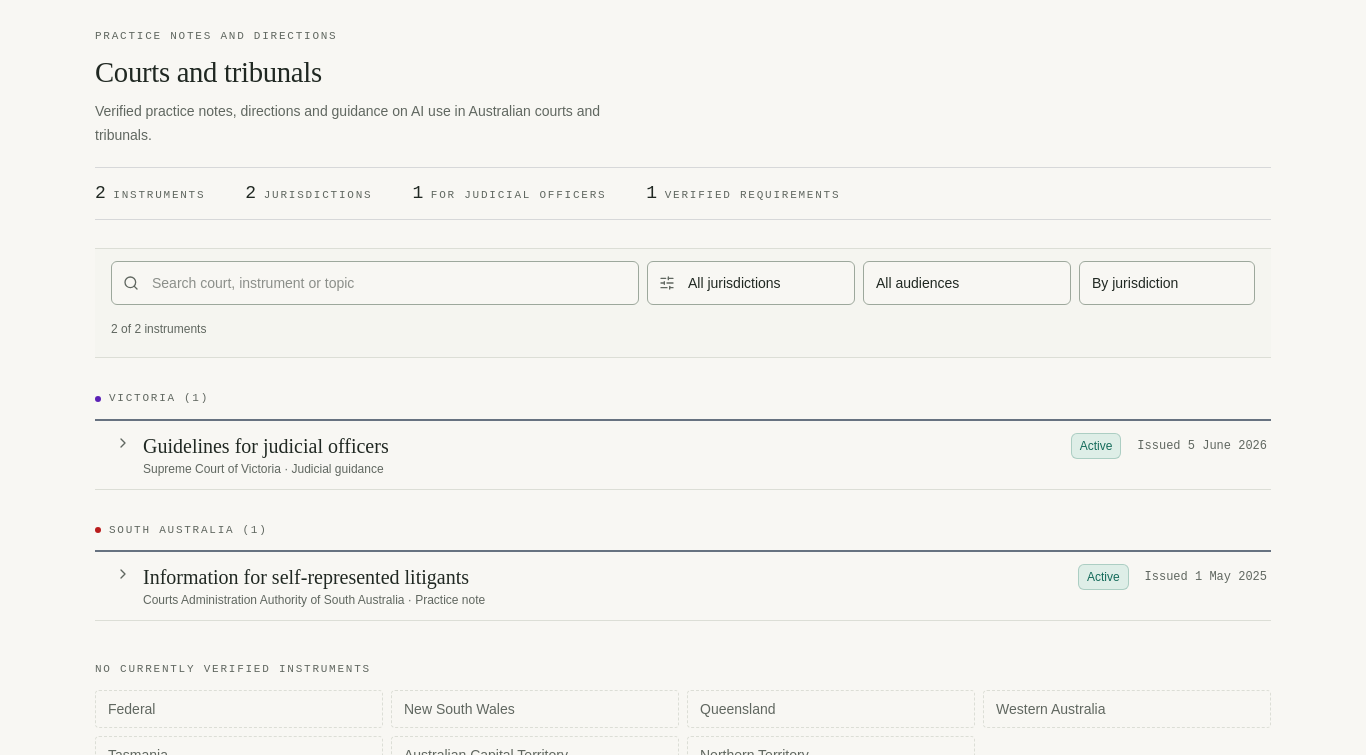
Test case: CourtsBrowser › includes mixed practitioner audiences from public requirements, not non-lawyers
Select "Legal professionals" in the 2nd dropdown named "Filter by audience" at (967, 283), box x1=863 y1=261 x2=1071 y2=305
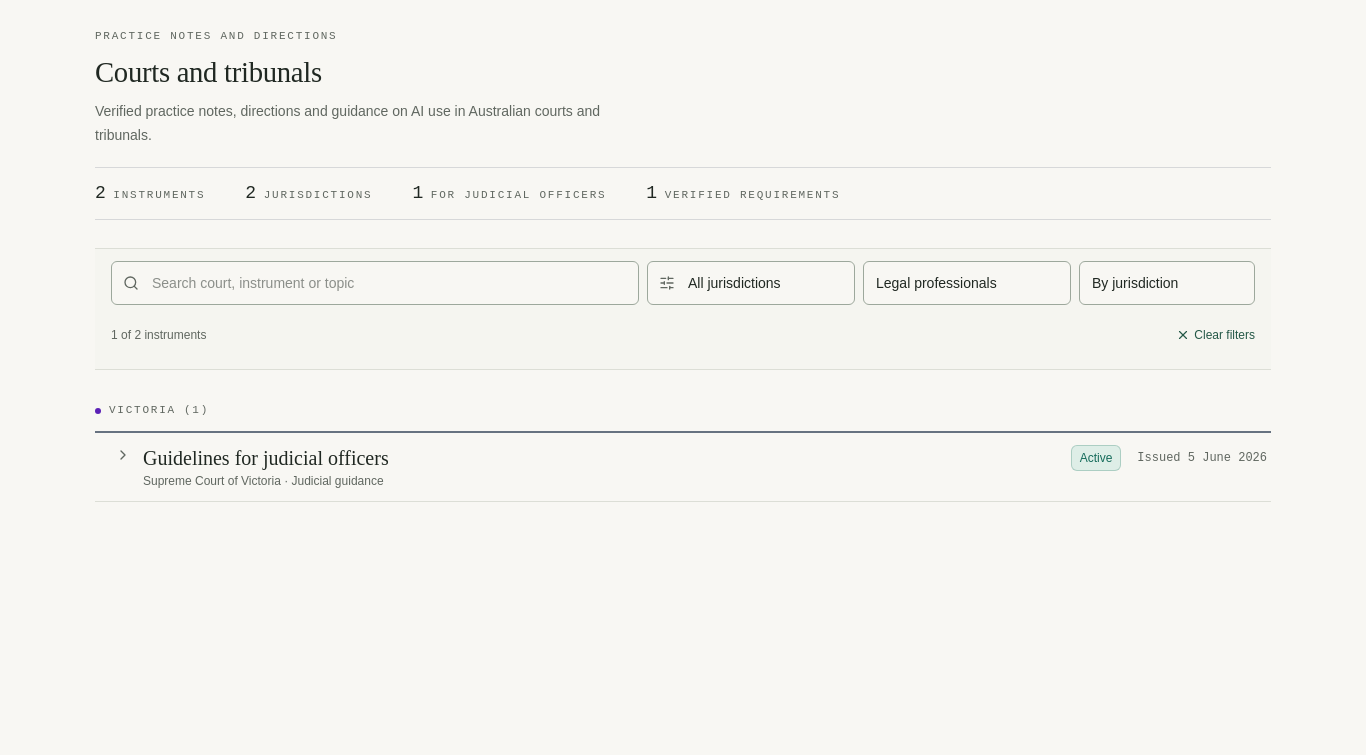
Check: the text "Guidelines for judicial officers" is shown, box x1=143 y1=445 x2=389 y2=471
Check: the button "Information for self-represented litigants" is gone
